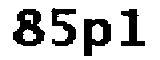1: (117, 8, 147, 51)
5: (45, 6, 79, 51)
8: (10, 8, 44, 51)
p: (81, 15, 112, 60)
